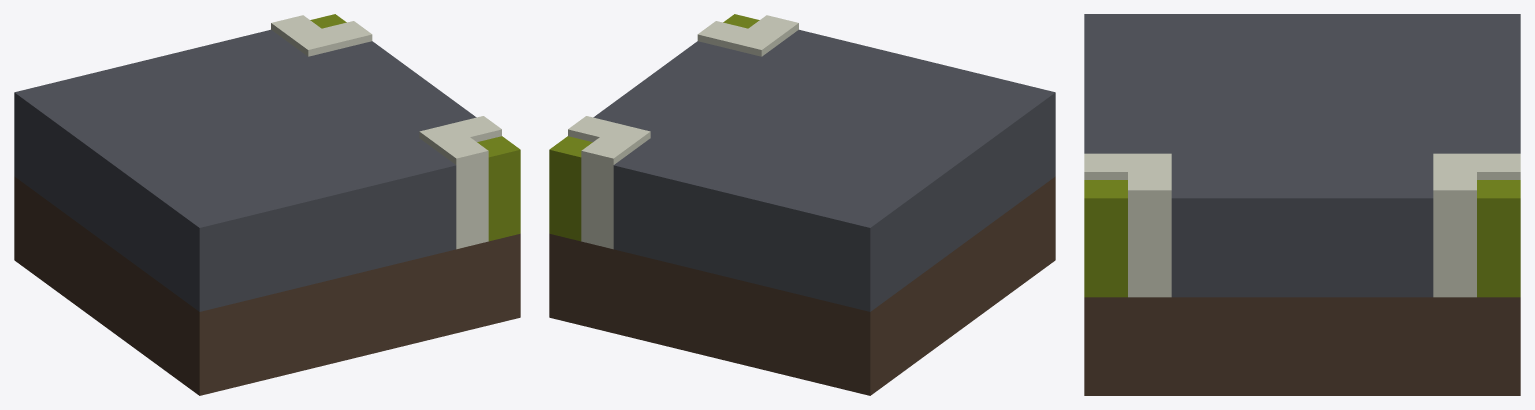
File: runway-grass-street.dae
3 renders of one model, left to right at view 1: azimuth 30°, elevation 25°; view 2: azimuth 150°, elevation 25°; view 3: azimuth 270°, elevation 25°, orthographic. The views are drawn at different scales.
Visible parts, largest first — view 1: street.1; view 2: street.1; view 3: street.1.
Part boxes in pixels (x1,y1,x2,y2): street.1: (14, 14, 520, 395); street.1: (549, 14, 1055, 395); street.1: (1084, 14, 1520, 395).
Size of the model in its own units: 500 by 260 by 500.
